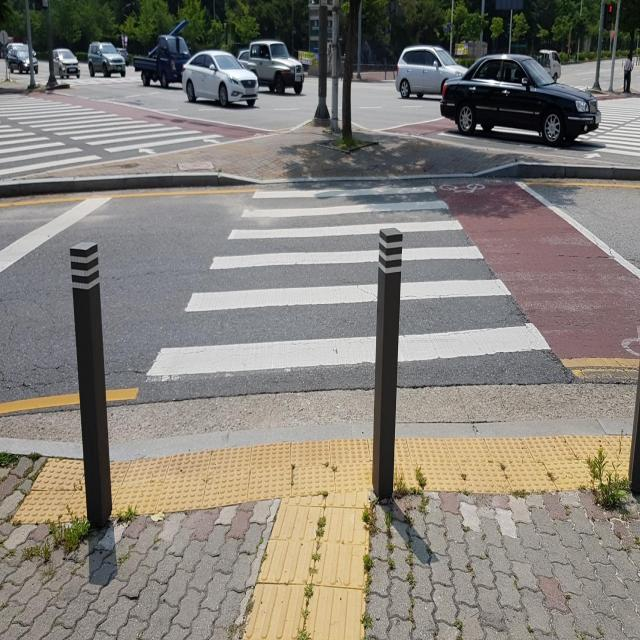빨간불: (606, 1, 614, 29)
횡단보도: (144, 183, 553, 383), (0, 87, 224, 181), (561, 95, 640, 143)
